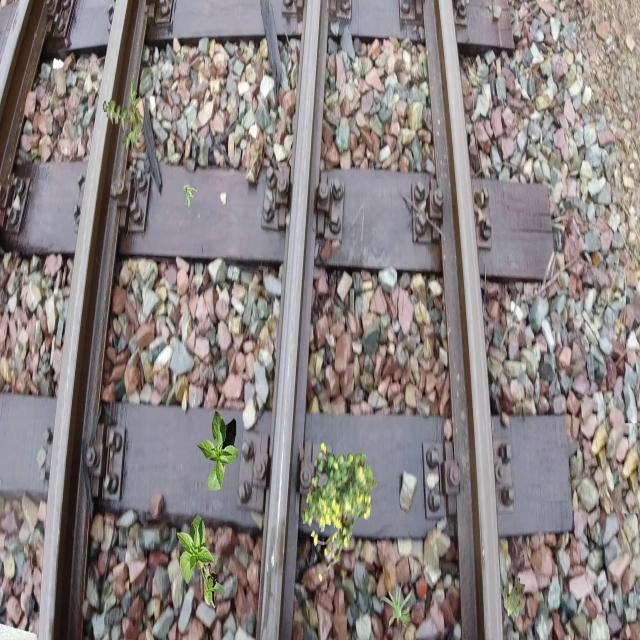Plant: (303, 442, 378, 582), (176, 514, 224, 609), (197, 411, 239, 491), (103, 80, 144, 152), (380, 583, 412, 629), (500, 577, 526, 620), (183, 187, 197, 208)
